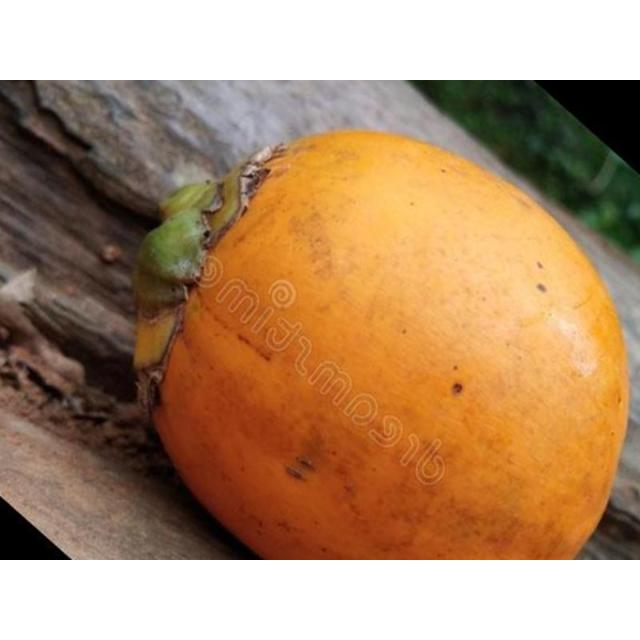good: (130, 130, 631, 559)
